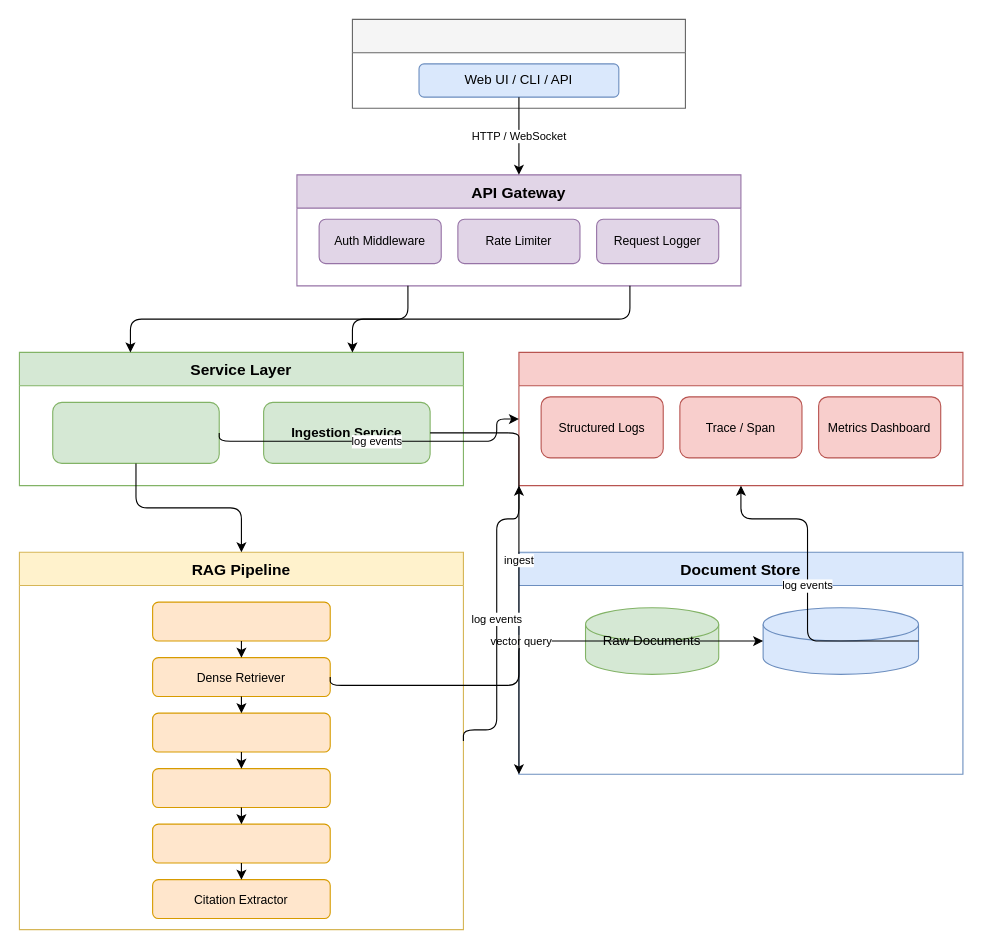
Some shapes in this 982 by 949 pixel diagram are drawn without their labels. Each missing label, with the box of its shape:
Chat Service: (52, 401, 219, 463)
Chunk + Vector Store: (762, 607, 919, 674)
Client: (351, 18, 685, 108)
Cross-Encoder Re-Ranker: (152, 712, 330, 752)
LLM Generator: (152, 823, 330, 863)
Observability Layer: (518, 351, 963, 486)
Prompt Builder: (152, 768, 330, 808)
Query Rewriter: (152, 601, 330, 641)
